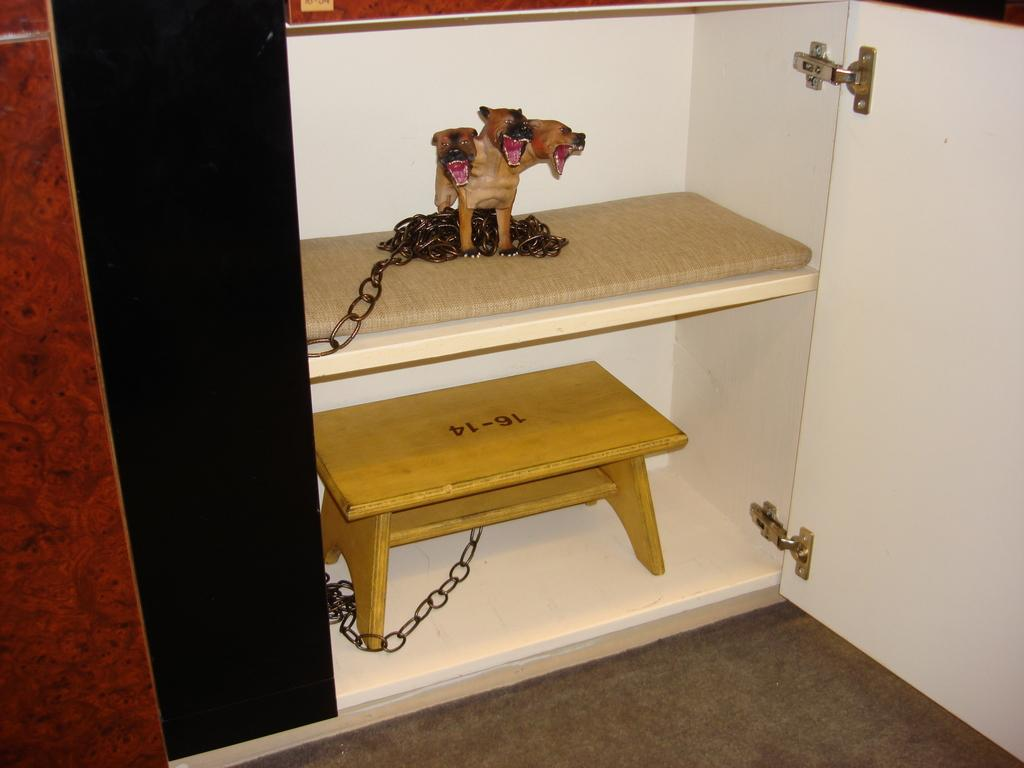Computer-keyboard: (42, 1, 342, 761)
